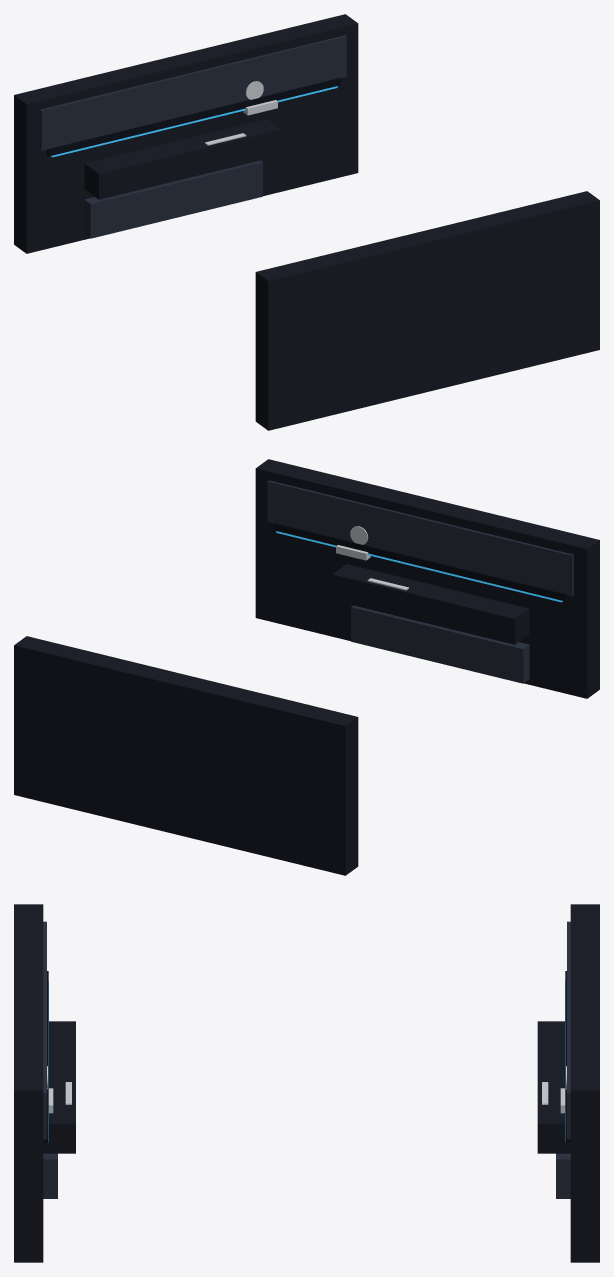
File: door_cards_sport.glb
3 renders of one model, top to bottom at view 1: azimuth 30°, elevation 25°; view 2: azimuth 150°, elevation 25°; view 3: azimuth 270°, elevation 25°, orthographic. The views are drawn at different scales.
Parts seen in each view (by area): view 1: DoorCard_Left, DoorCard_Right; view 2: DoorCard_Right, DoorCard_Left; view 3: DoorCard_Left, DoorCard_Right.
Boxes of the visible parts, <box> form: DoorCard_Left: <box>14,14,358,253</box>; DoorCard_Right: <box>255,191,599,430</box>; DoorCard_Right: <box>255,459,599,698</box>; DoorCard_Left: <box>14,636,358,875</box>; DoorCard_Left: <box>537,904,599,1262</box>; DoorCard_Right: <box>14,904,75,1262</box>.
Bounding box in the file's own units: 1.21 × 0.52 × 1.6.
